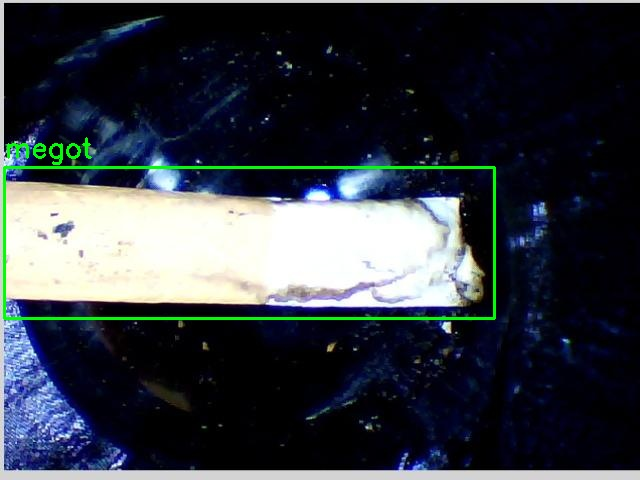megot: (4, 167, 494, 318)
